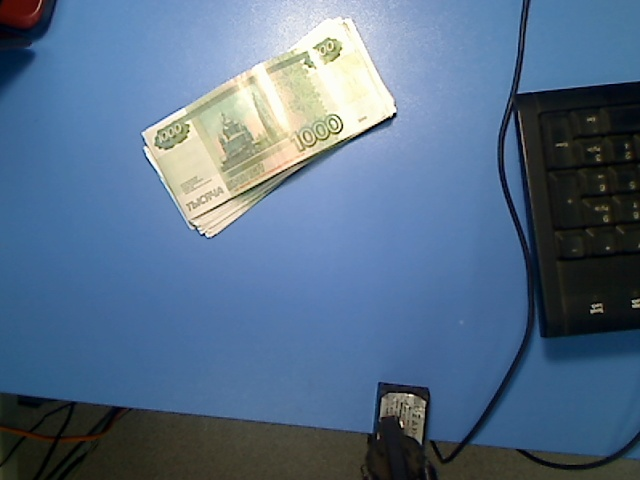banknotes: (138, 16, 400, 240)
